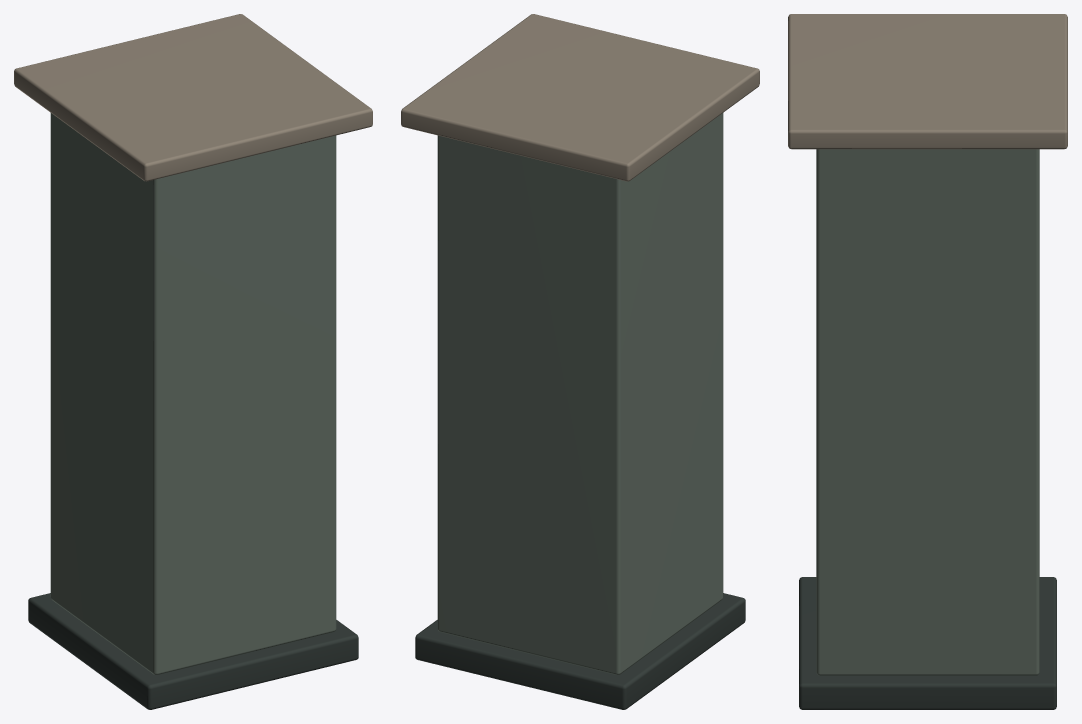
File: SM_Plinth_Tall.glb
3 renders of one model, left to right at view 1: azimuth 30°, elevation 25°; view 2: azimuth 150°, elevation 25°; view 3: azimuth 270°, elevation 25°, orthographic. The views are drawn at different scales.
Parts seen in each view (by area): view 1: SM_Plinth_Tall__Body; view 2: SM_Plinth_Tall__Body; view 3: SM_Plinth_Tall__Body.
Part boxes in pixels (bbox=[...]): SM_Plinth_Tall__Body: bbox=[14, 14, 372, 709]; SM_Plinth_Tall__Body: bbox=[401, 14, 759, 709]; SM_Plinth_Tall__Body: bbox=[788, 14, 1067, 709].
Bounding box in the file's own units: 0.52 × 1.2 × 0.52.
